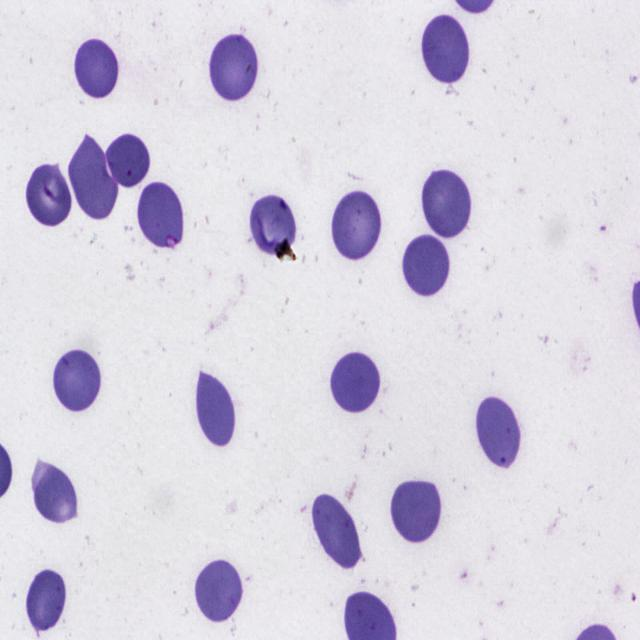red blood cell: (328, 188, 384, 262), (71, 135, 117, 224), (420, 166, 472, 243), (312, 488, 358, 574), (474, 391, 524, 469), (208, 30, 260, 104), (390, 475, 443, 545), (192, 556, 245, 626), (420, 12, 470, 86), (136, 178, 185, 251), (401, 231, 452, 300), (52, 347, 103, 414), (330, 348, 381, 414), (196, 368, 237, 450), (30, 459, 81, 524), (250, 191, 298, 260), (25, 162, 74, 228), (102, 131, 154, 192), (73, 36, 121, 101), (23, 566, 68, 635)
